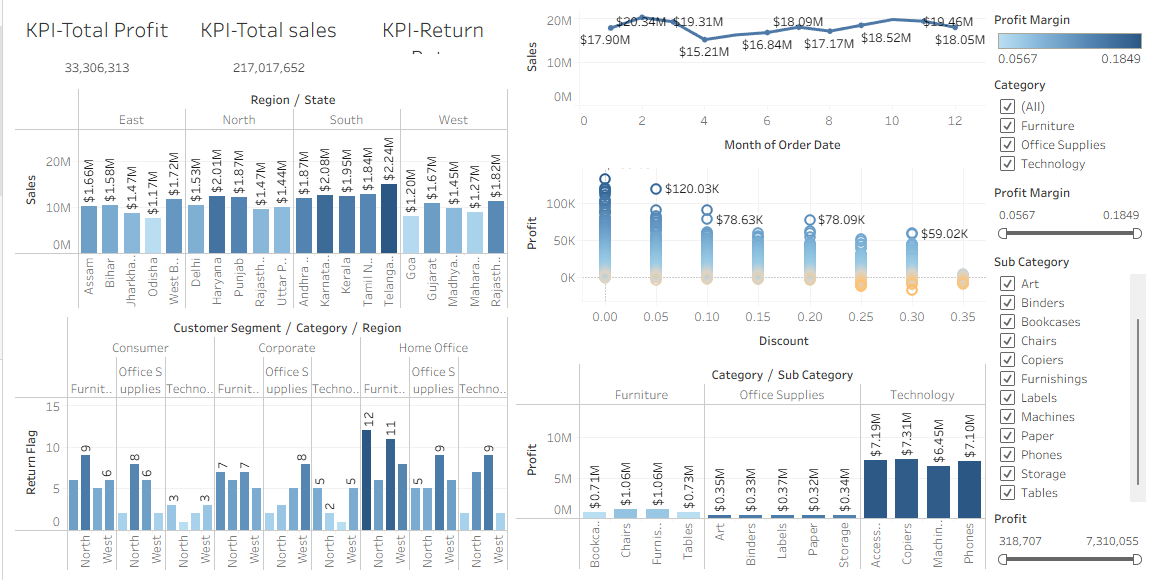

Layout of this report page (visuals, bound fields, positions):
{"tool":"tableau","page":{"name":"Dashboard 1","canvas":[1000,1000],"units":"permille","ordinal":0},"visuals":[{"type":"worksheet","title":"KPI-Total Profit","mark":"Automatic","box":[6.9,13.7,173.2,133.6]},{"type":"worksheet","title":"KPI-Total sales","mark":"Automatic","box":[180.1,13.7,172.3,133.6]},{"type":"worksheet","title":"KPI-Return Rate","mark":"Automatic","box":[352.4,13.7,159.3,133.6]},{"type":"worksheet","title":"Sales trend view","mark":"Automatic","rows":["sales"],"cols":["order_date"],"box":[511.7,13.7,481.4,268.8]},{"type":"worksheet","title":"Regional performance view","mark":"Automatic","rows":["sales"],"cols":["region","state"],"box":[6.9,147.3,504.8,390.4]},{"type":"worksheet","title":"Discount vs profit view","mark":"Automatic","rows":["profit"],"cols":["discount"],"box":[511.7,282.5,481.4,335.6]},{"type":"worksheet","title":"Return analysis view","mark":"Automatic","rows":["return_flag"],"cols":["customer_segment","category","region"],"box":[6.9,537.7,504.8,448.6]},{"type":"worksheet","title":"Category profitability view","mark":"Automatic","rows":["profit"],"cols":["category","sub_category"],"box":[511.7,618.1,481.4,368.2]}]}

Visuals, with their boxes on the dashboard's canvas, which has no fixed pixel size, in thousandths of its width and height (x1, y1, x2, y2). These are canvas units, not pixel positions in the 1158x580 screenshot, which may show the page scaled, cropped or inside an application window:
"KPI-Total Profit" worksheet: bbox=[7, 14, 180, 147]
"KPI-Total sales" worksheet: bbox=[180, 14, 352, 147]
"KPI-Return Rate" worksheet: bbox=[352, 14, 512, 147]
"Sales trend view" worksheet: bbox=[512, 14, 993, 282]
"Regional performance view" worksheet: bbox=[7, 147, 512, 538]
"Discount vs profit view" worksheet: bbox=[512, 282, 993, 618]
"Return analysis view" worksheet: bbox=[7, 538, 512, 986]
"Category profitability view" worksheet: bbox=[512, 618, 993, 986]
